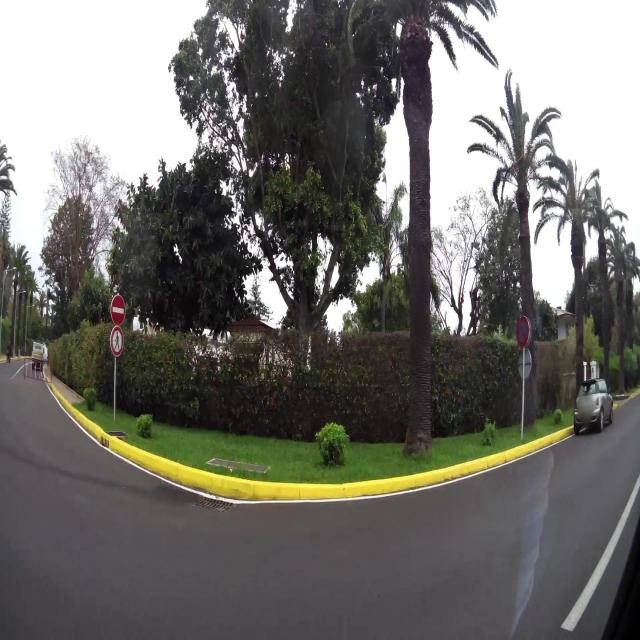forb_stopping: (515, 316, 529, 349)
